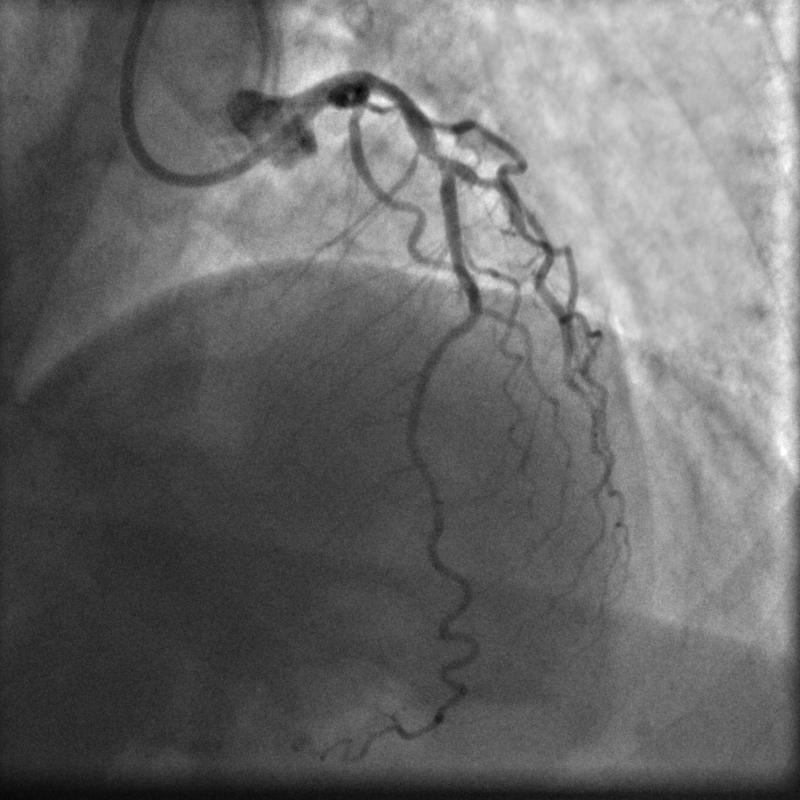Stenosis: (414, 143, 453, 166)
